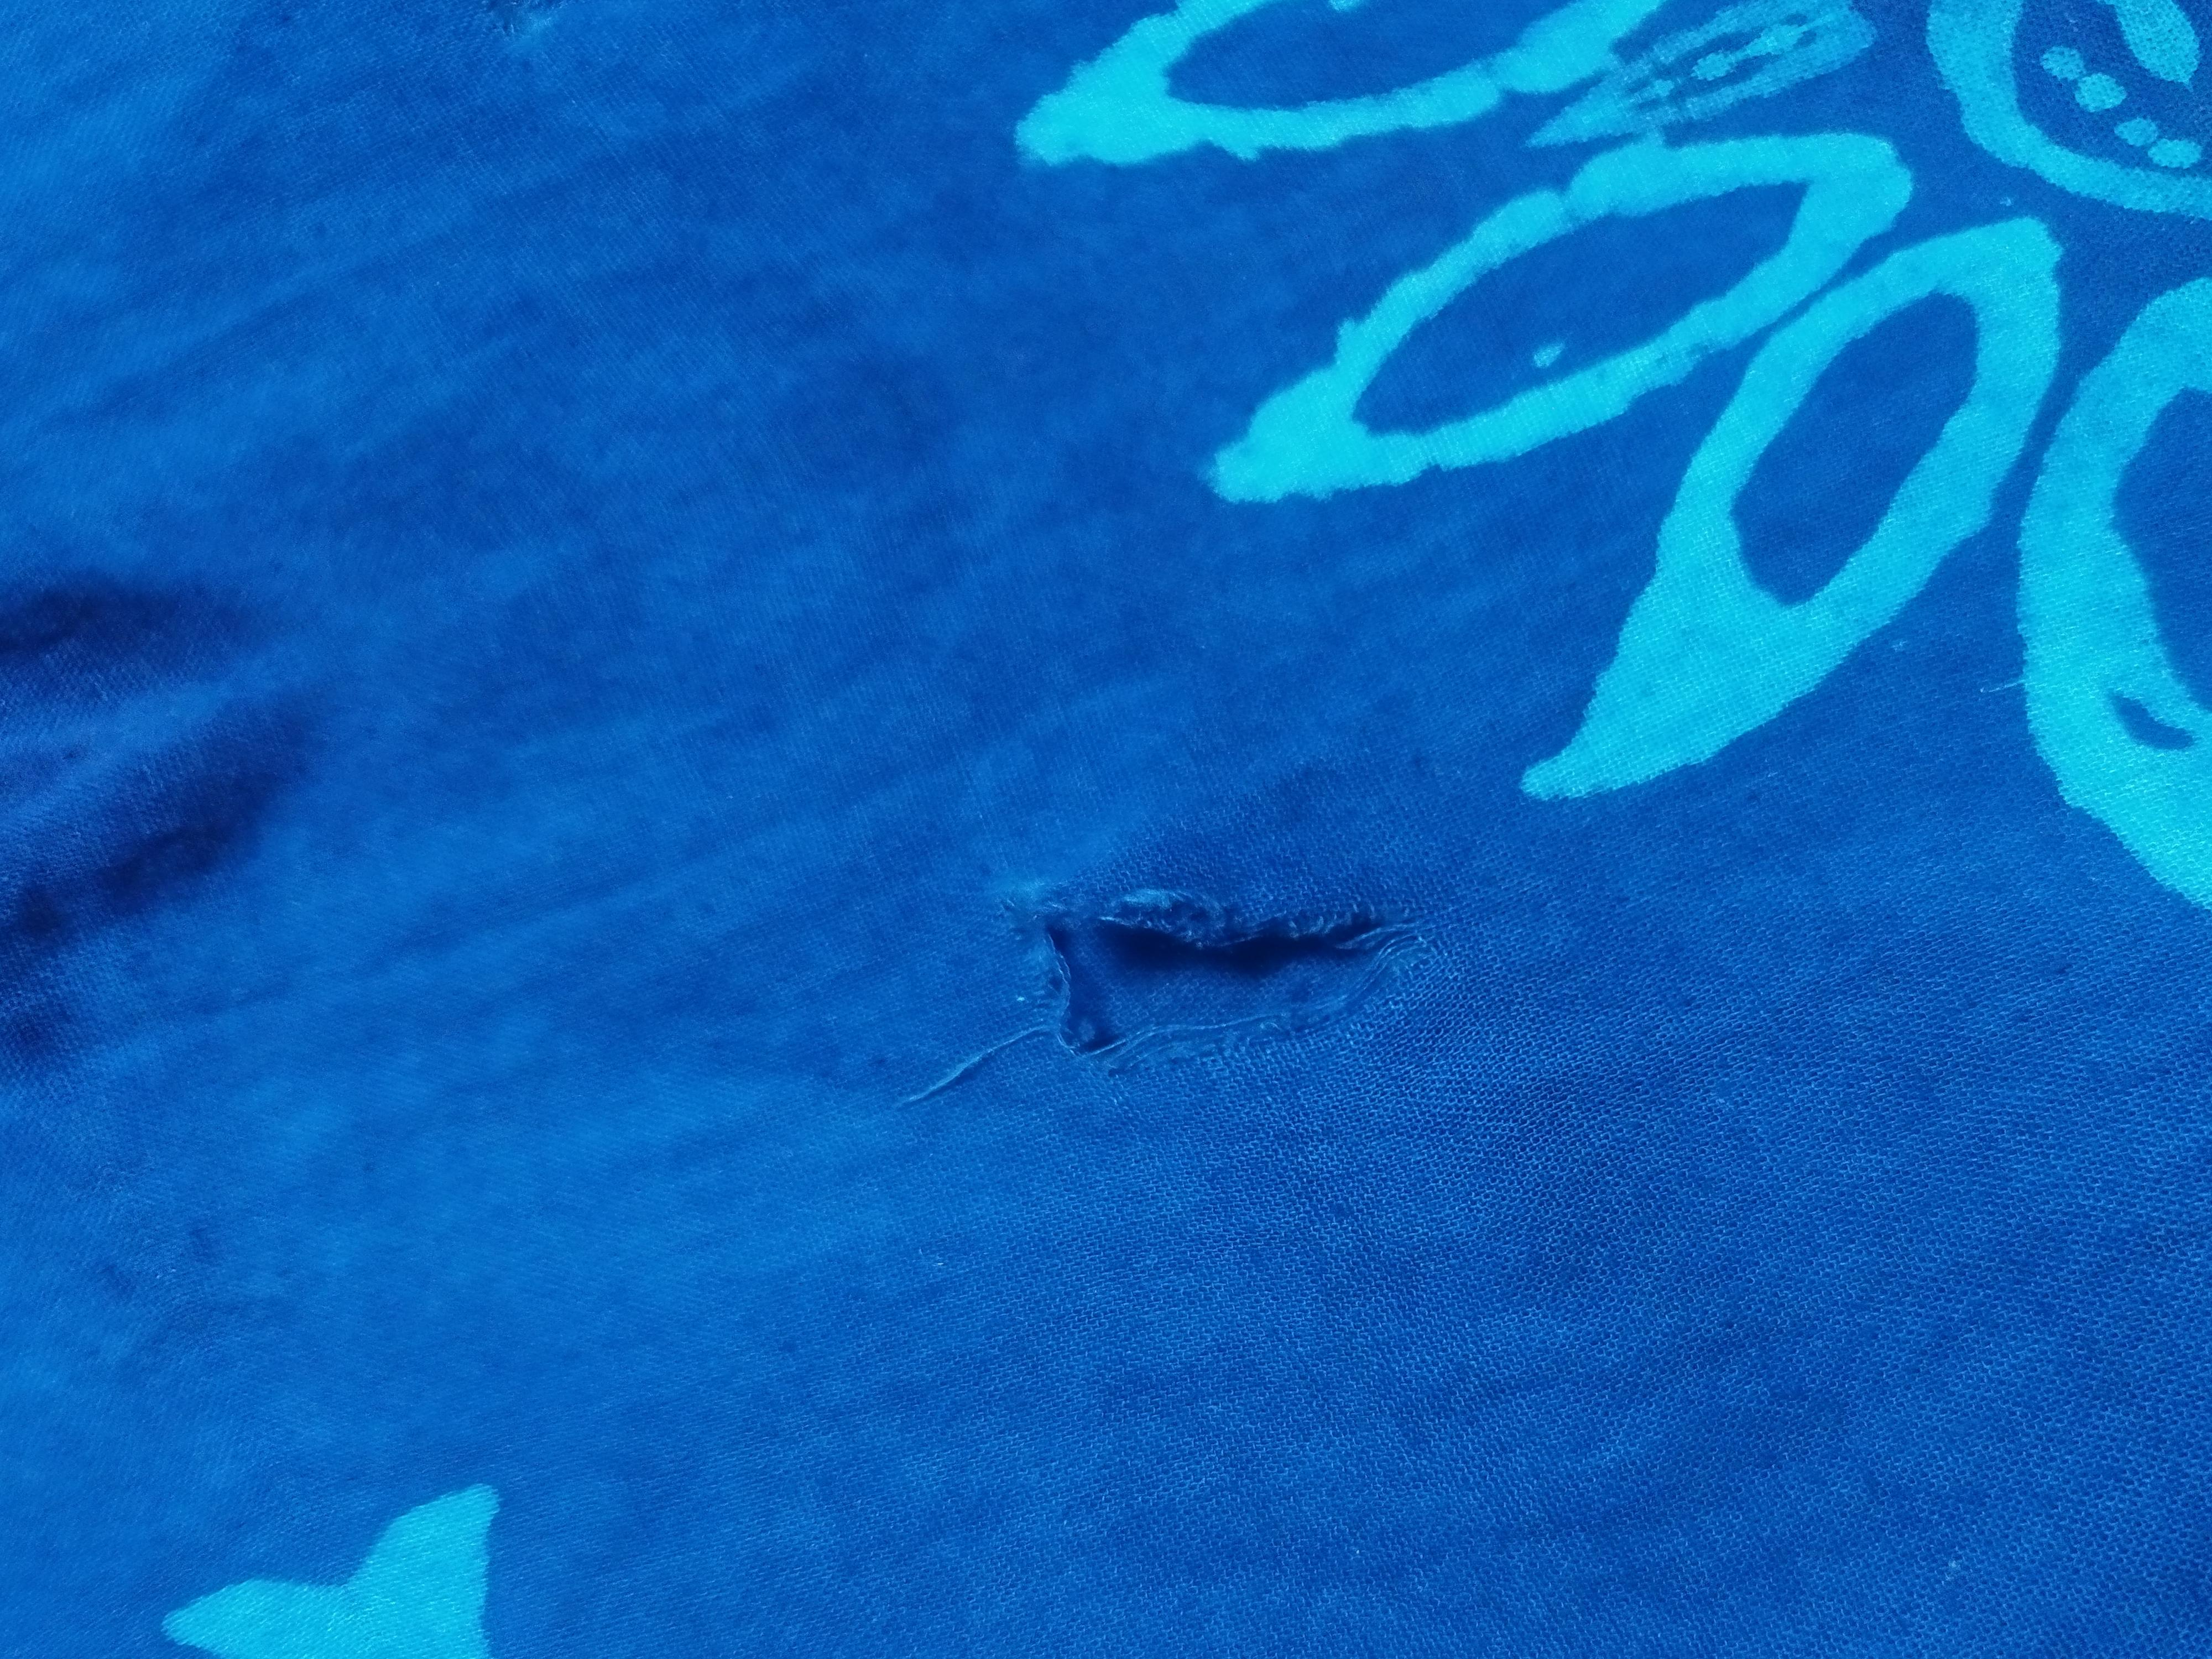hole: (975, 849, 1430, 1112)
